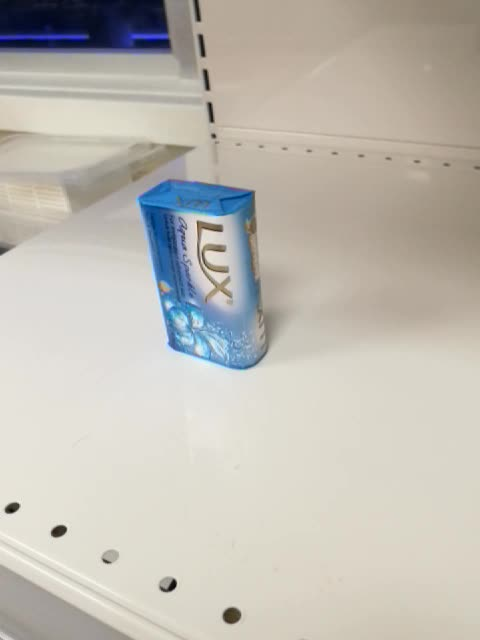soap: (137, 177, 271, 372)
